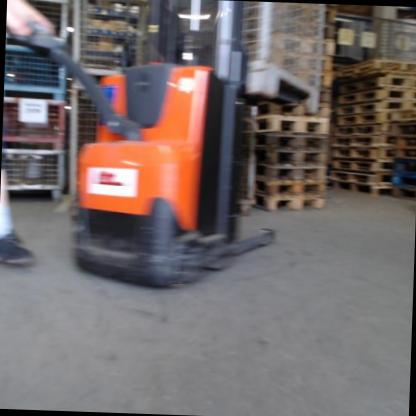pallet: (341, 58, 416, 79), (253, 150, 327, 169), (272, 33, 334, 55), (256, 167, 325, 186), (254, 194, 325, 212), (255, 117, 330, 134), (256, 180, 325, 198), (343, 79, 416, 96), (256, 133, 328, 150), (272, 54, 333, 73), (256, 103, 330, 118), (331, 181, 395, 198), (335, 147, 398, 163), (340, 95, 416, 108), (335, 134, 395, 149), (335, 160, 397, 173), (336, 113, 392, 127), (334, 170, 393, 183), (292, 71, 332, 88), (336, 125, 395, 136), (337, 105, 392, 115), (394, 177, 416, 189), (398, 124, 416, 137), (396, 148, 416, 159), (398, 137, 416, 149), (395, 189, 415, 199), (322, 91, 333, 104)
pallet_truck: (7, 0, 291, 301)
stillage: (185, 0, 332, 117), (56, 79, 116, 210), (73, 0, 165, 81), (0, 146, 66, 204), (5, 42, 70, 97), (4, 96, 70, 150), (7, 0, 72, 51)
